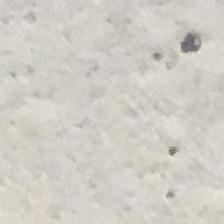Non_Crack: (18, 8, 141, 190)
